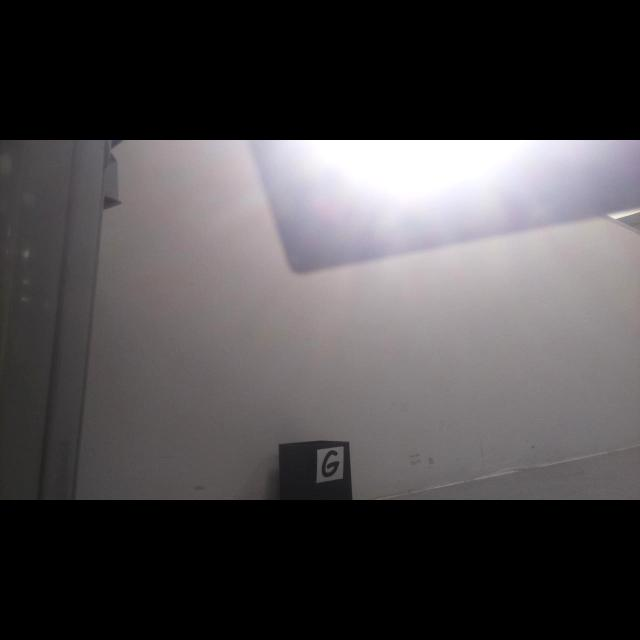G: (322, 450, 339, 477)
